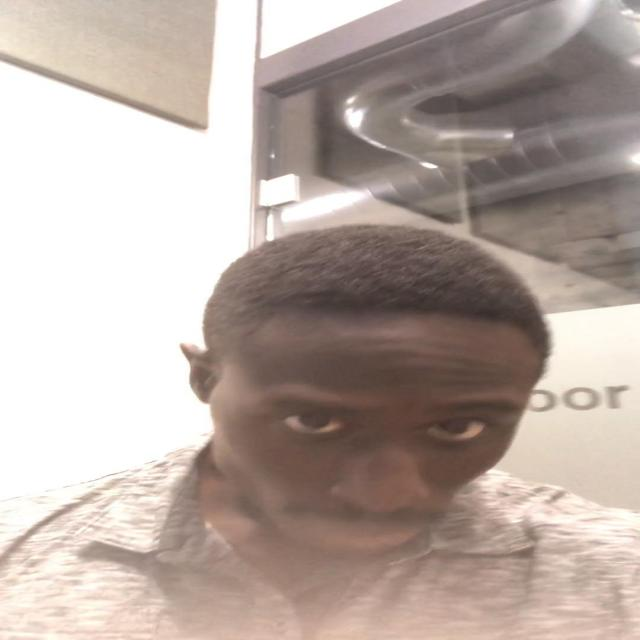face: (216, 350, 543, 559)
